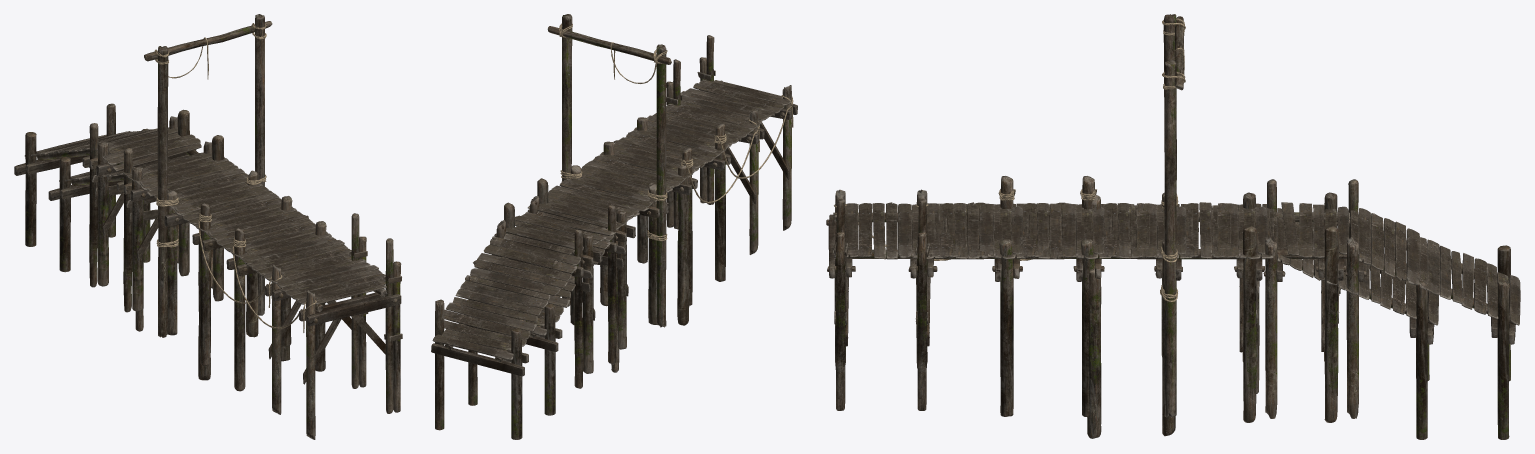
Rendered from modular_wooden_pier.glb.
3 views of the same model, side by side, from view 1: azimuth 30°, elevation 25°; view 2: azimuth 150°, elevation 25°; view 3: azimuth 270°, elevation 25° (orthographic). The views are drawn at different scales.
Visible parts, largest first — view 1: pier_long_LOD0, pier_short_LOD0, mooring_piles_LOD0; view 2: pier_long_LOD0, pier_short_LOD0, mooring_piles_LOD0; view 3: pier_long_LOD0, pier_short_LOD0, mooring_piles_LOD0.
Boxes of the visible parts, x1,y1,x2,y2 form: pier_long_LOD0: (14, 14, 402, 439); pier_short_LOD0: (48, 128, 368, 414); mooring_piles_LOD0: (135, 200, 290, 380); pier_long_LOD0: (431, 14, 797, 439); pier_short_LOD0: (467, 59, 764, 415); mooring_piles_LOD0: (600, 165, 689, 372); pier_long_LOD0: (826, 14, 1520, 439); pier_short_LOD0: (908, 176, 1438, 439); mooring_piles_LOD0: (1087, 195, 1259, 438).
Size of what is drawn, in the model's own units: 3.09 by 7.52 by 12.4.
2 materials, 2 textured.
